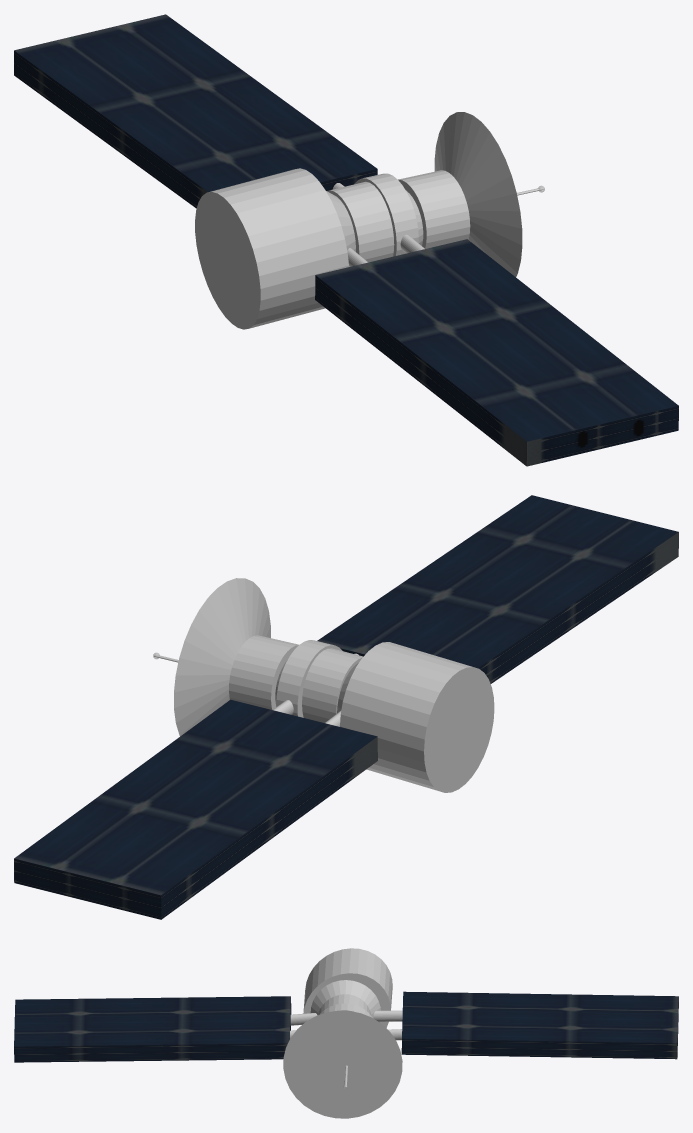
File: Satellite_Final.fbx
The picture shows the model from 3 angles, top to bottom: view 1: azimuth 30°, elevation 25°; view 2: azimuth 150°, elevation 25°; view 3: azimuth 270°, elevation 25°; orthographic projection. The views are drawn at different scales.
Visible parts, largest first — view 1: Cube, Cube.001, Cylinder.004, Cone, Cylinder.001, Cylinder.003, Cylinder.002; view 2: Cube.001, Cube, Cylinder.004, Cone, Cylinder.001, Cylinder.003, Cylinder.002; view 3: Cube.001, Cube, Cone, Cylinder.004, Cone.002, Cylinder.003, Cylinder.008, Cylinder.002.
Boxes of the visible parts, x1,y1,x2,y2 form: Cube: (315, 239, 678, 466); Cube.001: (14, 14, 377, 208); Cylinder.004: (195, 168, 348, 329); Cone: (434, 112, 522, 276); Cylinder.001: (398, 170, 470, 248); Cylinder.003: (327, 181, 394, 262); Cylinder.002: (354, 173, 418, 256); Cube.001: (14, 699, 377, 919); Cube: (317, 495, 678, 683); Cylinder.004: (340, 642, 494, 792); Cone: (174, 578, 270, 736); Cylinder.001: (229, 635, 298, 709); Cylinder.003: (302, 648, 362, 722); Cylinder.002: (276, 640, 342, 717); Cube.001: (401, 991, 678, 1059); Cube: (14, 996, 291, 1062); Cone: (283, 1010, 402, 1118); Cylinder.004: (303, 948, 392, 1027); Cone.002: (310, 980, 380, 1022); Cylinder.003: (318, 994, 371, 1015); Cylinder.008: (373, 1010, 402, 1021); Cylinder.002: (319, 1003, 372, 1017).
Size of the model in its own units: 369 by 188 by 1051.
